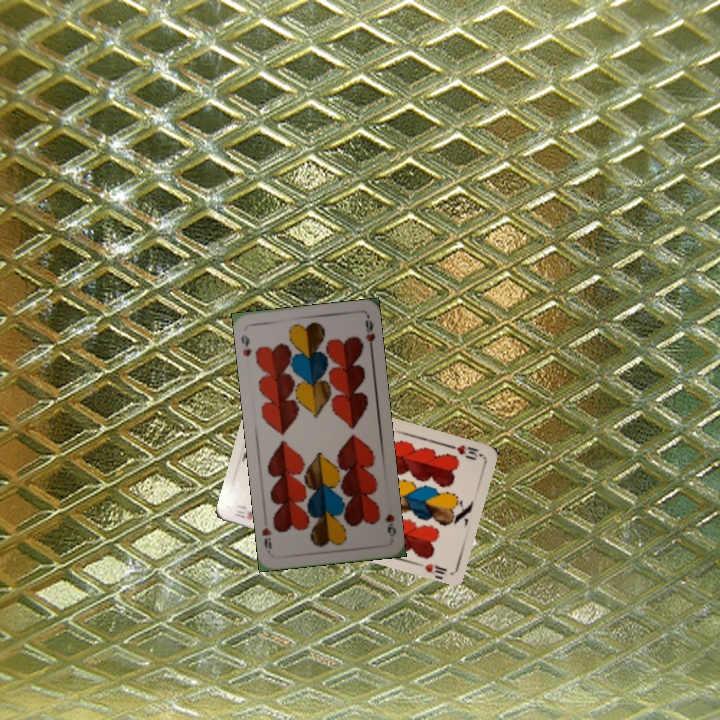H10: (443, 440, 483, 463), (229, 501, 257, 522)
H9: (380, 509, 398, 539), (237, 331, 254, 359)
